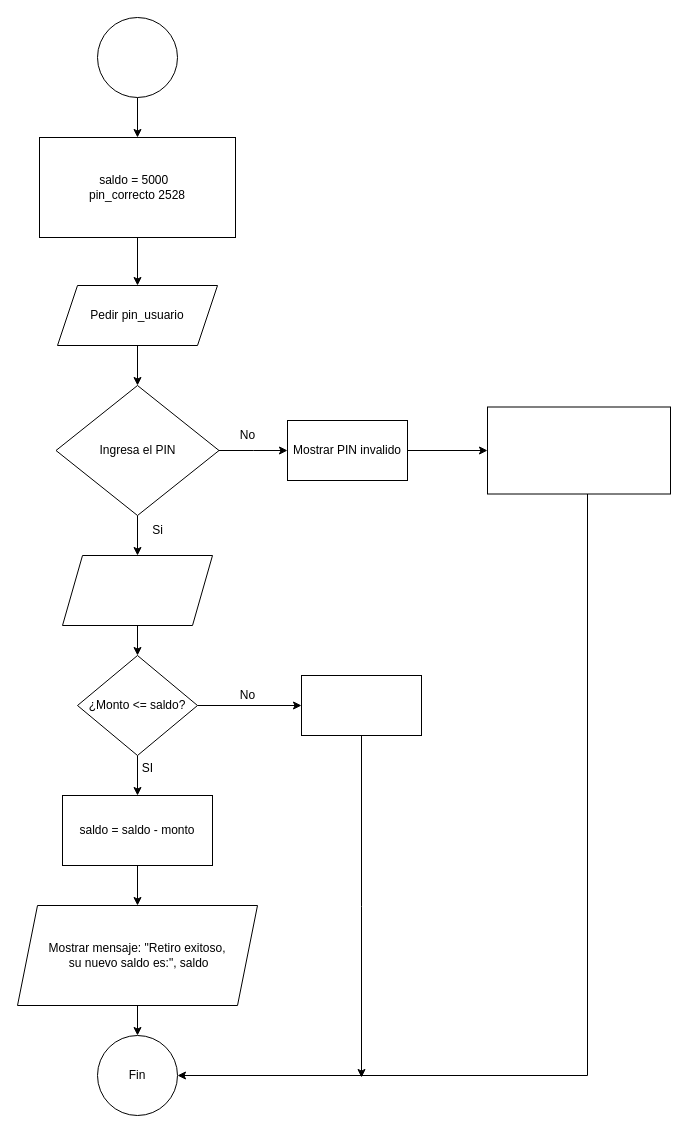
The diagram is 688 pixels wide and 1133 high, and some of its shapes have lost their labels. The box of each missing label's shape, as (x1, y1, x2, y2) in pixels:
Inicio: (96, 16, 178, 98)
mostrar mensaje: "Lo sentimos, fondos insuficientes.": (300, 674, 422, 736)
Pedir monto: (62, 554, 212, 626)
Se acaban los 3 intentos mostrar mensaje: "Tarjet bloqueada" Terminar.: (486, 406, 670, 494)
